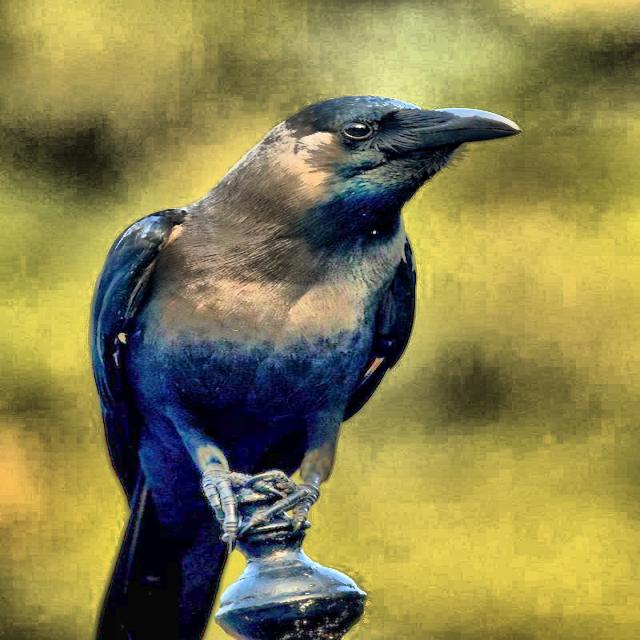crow: (82, 83, 537, 640)
